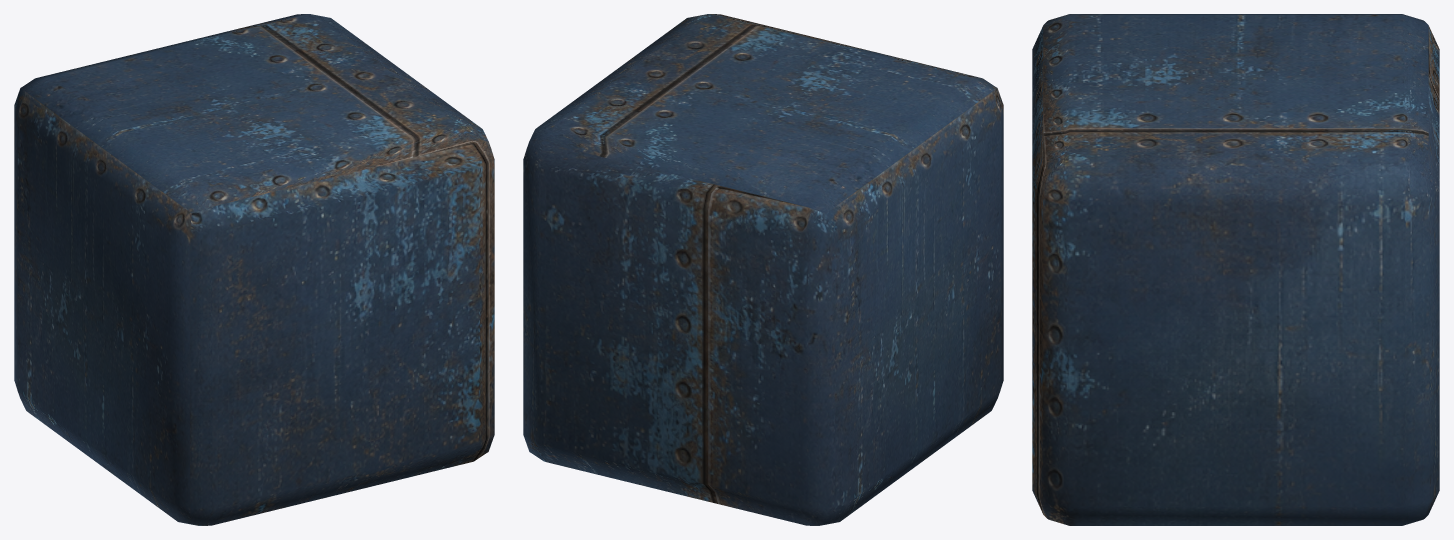
File: w2_block_b.glb
3 views of the same model, side by side, from view 1: azimuth 30°, elevation 25°; view 2: azimuth 150°, elevation 25°; view 3: azimuth 270°, elevation 25° (orthographic). The views are drawn at different scales.
Visible parts, largest first — view 1: w2_block_b; view 2: w2_block_b; view 3: w2_block_b.
Part boxes in pixels (x1,y1,x2,y2): w2_block_b: (14, 14, 494, 525); w2_block_b: (523, 14, 1003, 525); w2_block_b: (1032, 14, 1439, 525).
Bounding box in the file's own units: 1.74 × 1.74 × 1.74.
3 materials, 1 textured.
